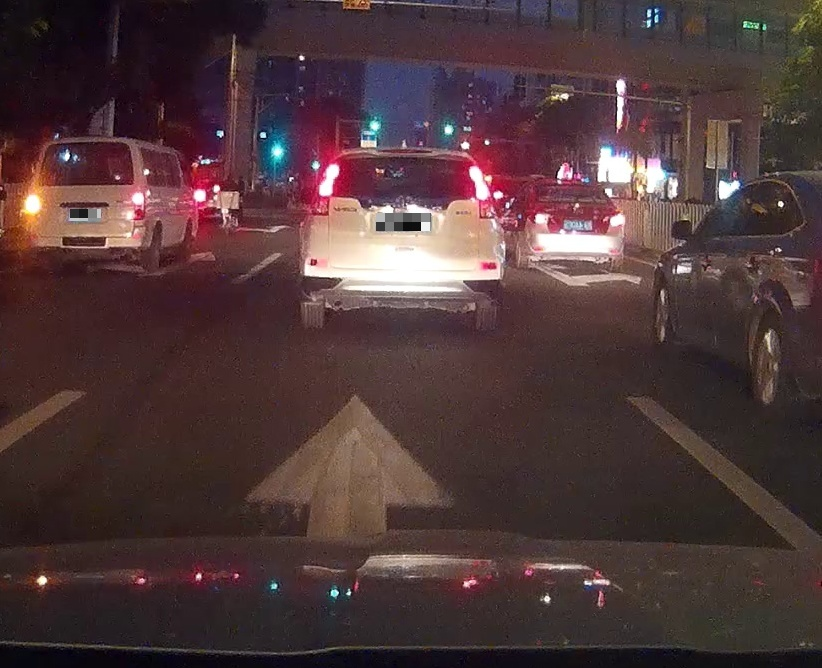L_light: (317, 163, 339, 197), (24, 195, 39, 218), (533, 213, 551, 225)
R_light: (468, 166, 490, 201), (133, 192, 145, 221), (609, 213, 624, 226)
T_light: (390, 157, 418, 162), (74, 143, 90, 147), (564, 186, 579, 189)
night-left: (24, 137, 146, 269)
night-no: (302, 148, 506, 331), (527, 181, 625, 268)
plate_1: (70, 209, 101, 221)
plate_2: (376, 213, 431, 231)
